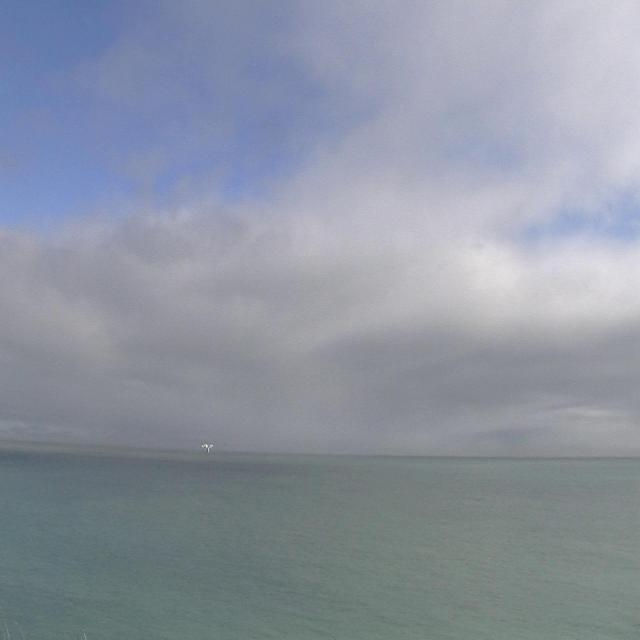drone: (196, 433, 218, 455)
